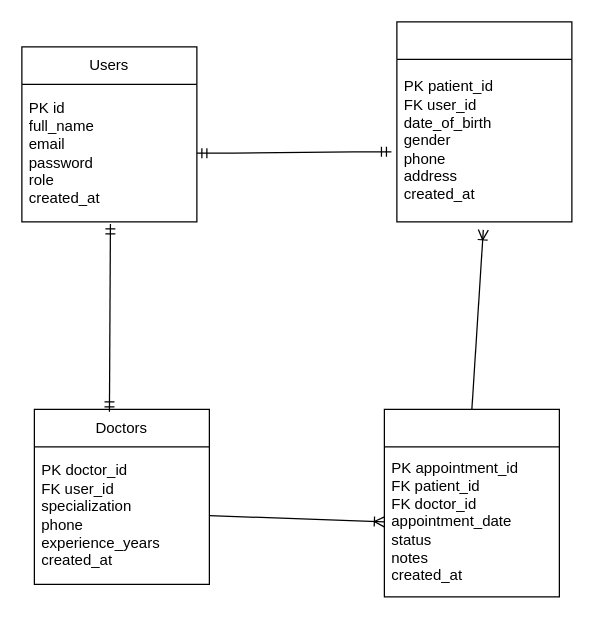
Image size: 594x619. Some labels were removed from this diagram. Here are the shapes that lost their labels. From the top down, the box of each, then its label:
(396, 21, 572, 222): Patients
(383, 408, 559, 597): Appointments
